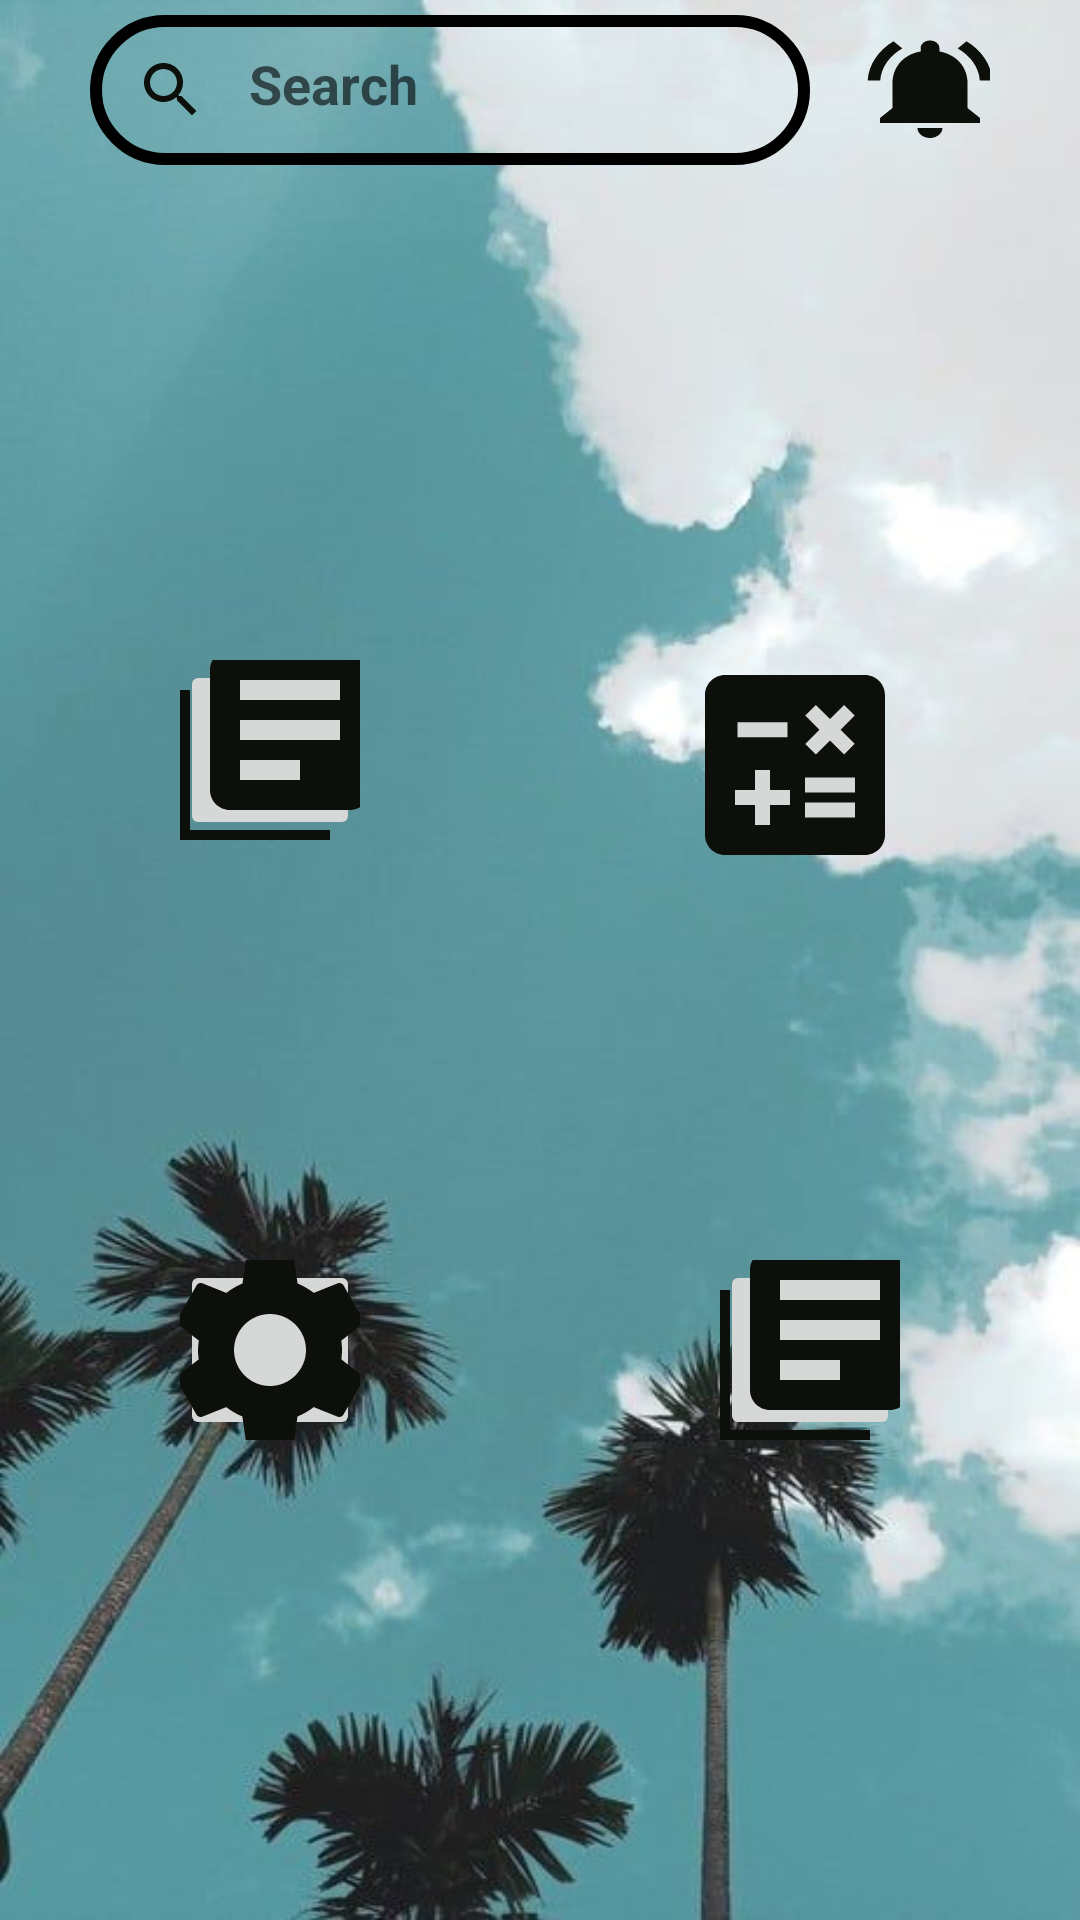

Icons on this 1080 x 1920 Android screen, each with the point to tap as [x,y]:
calculator: [795,765]
notifications: [928,89]
settings: [270,1350]
